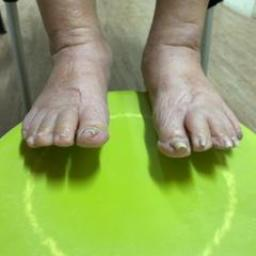Front View -Both Feet-: (4, 13, 250, 175)
